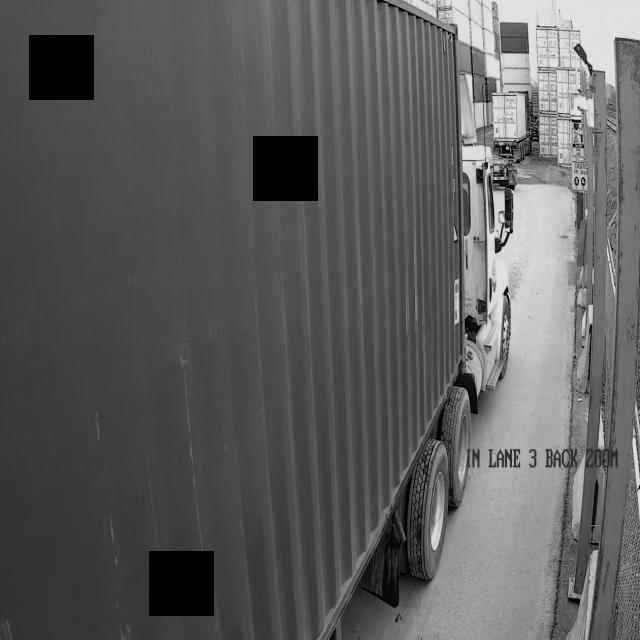truck_with_container: (0, 0, 513, 640)
